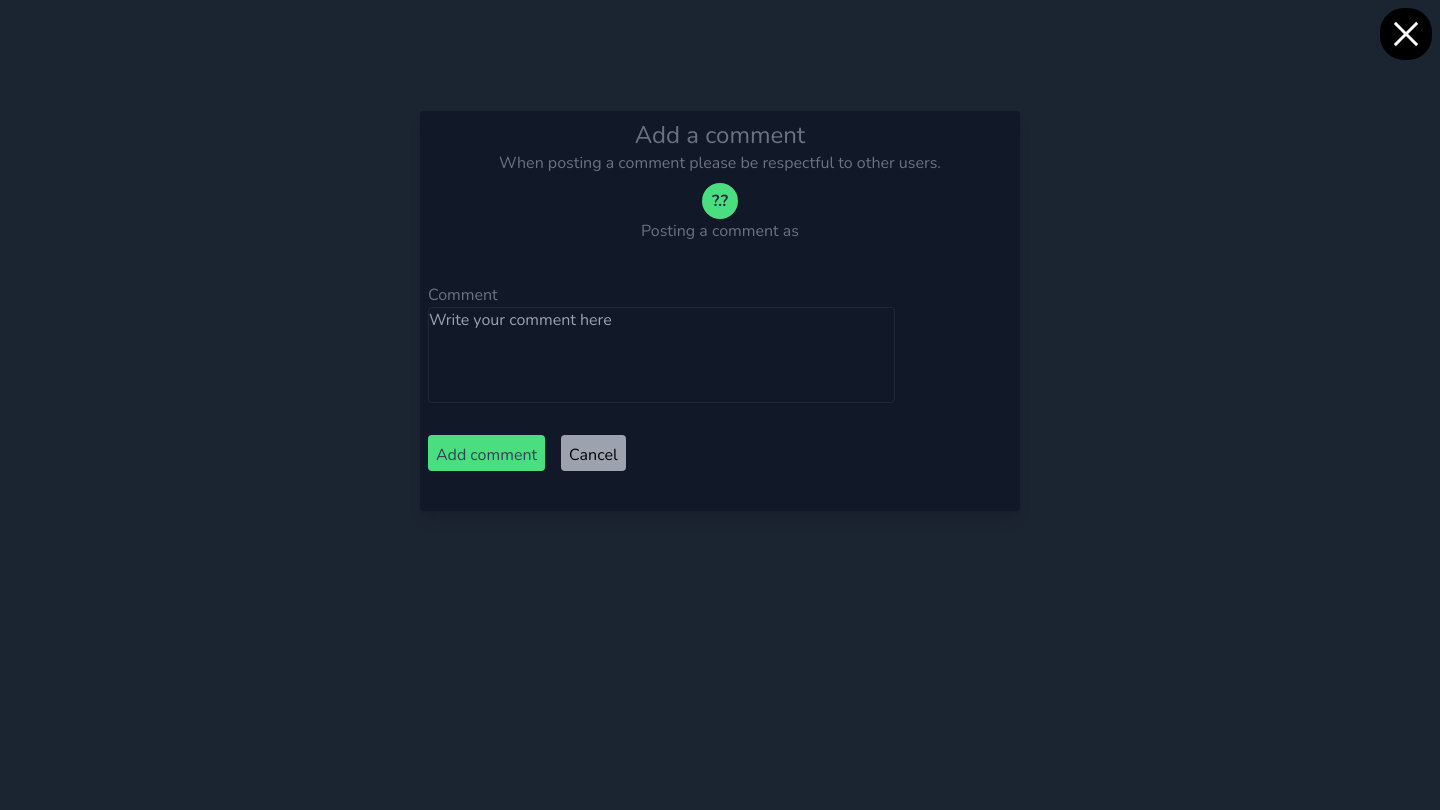
Test: TopicDetailsCommentModalContent › should show validation error for empty content
Clear the text box with placeholder "Write your comment here" at (662, 355), box [428,307,895,403]
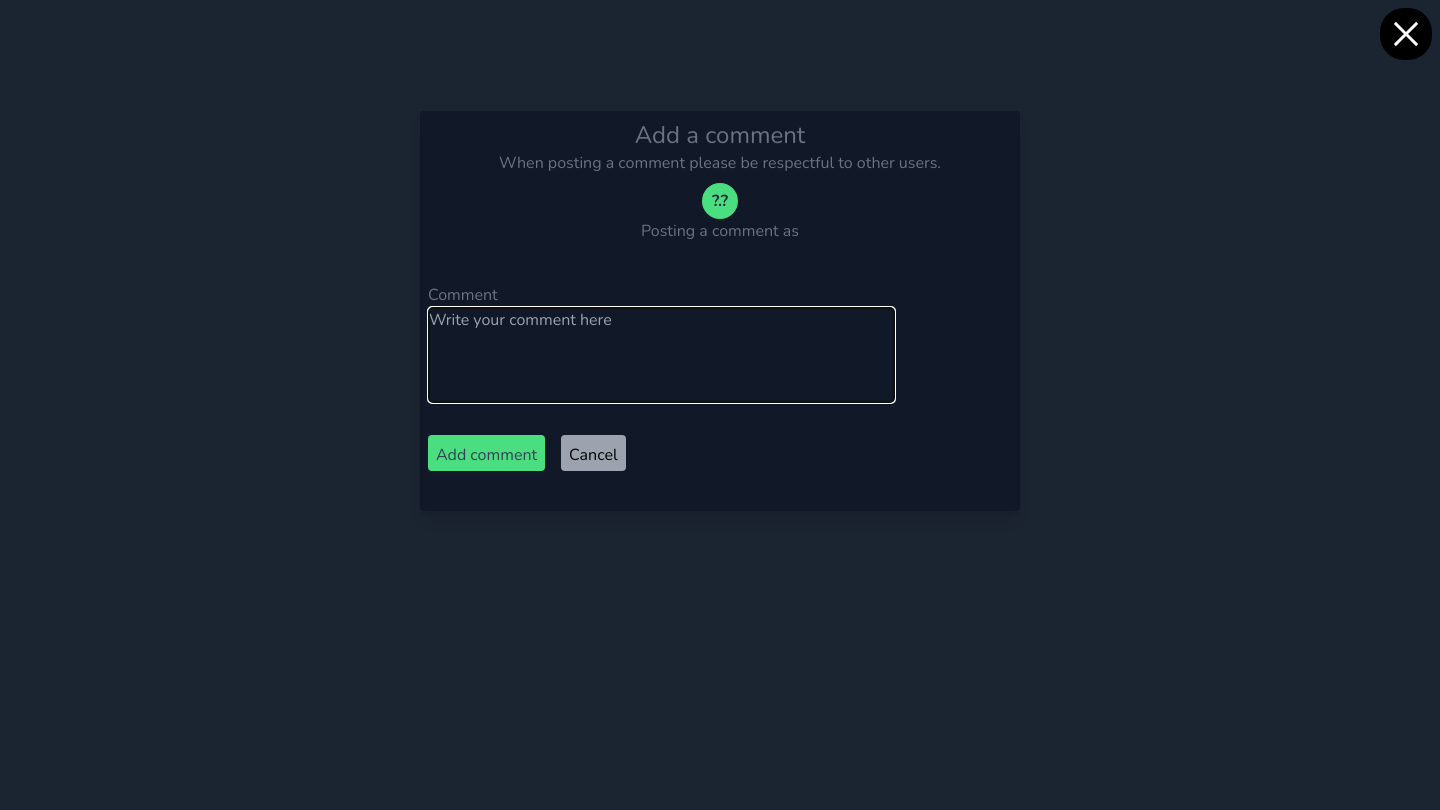
Click the button "Add comment" at (487, 453), box [428,435,545,471]
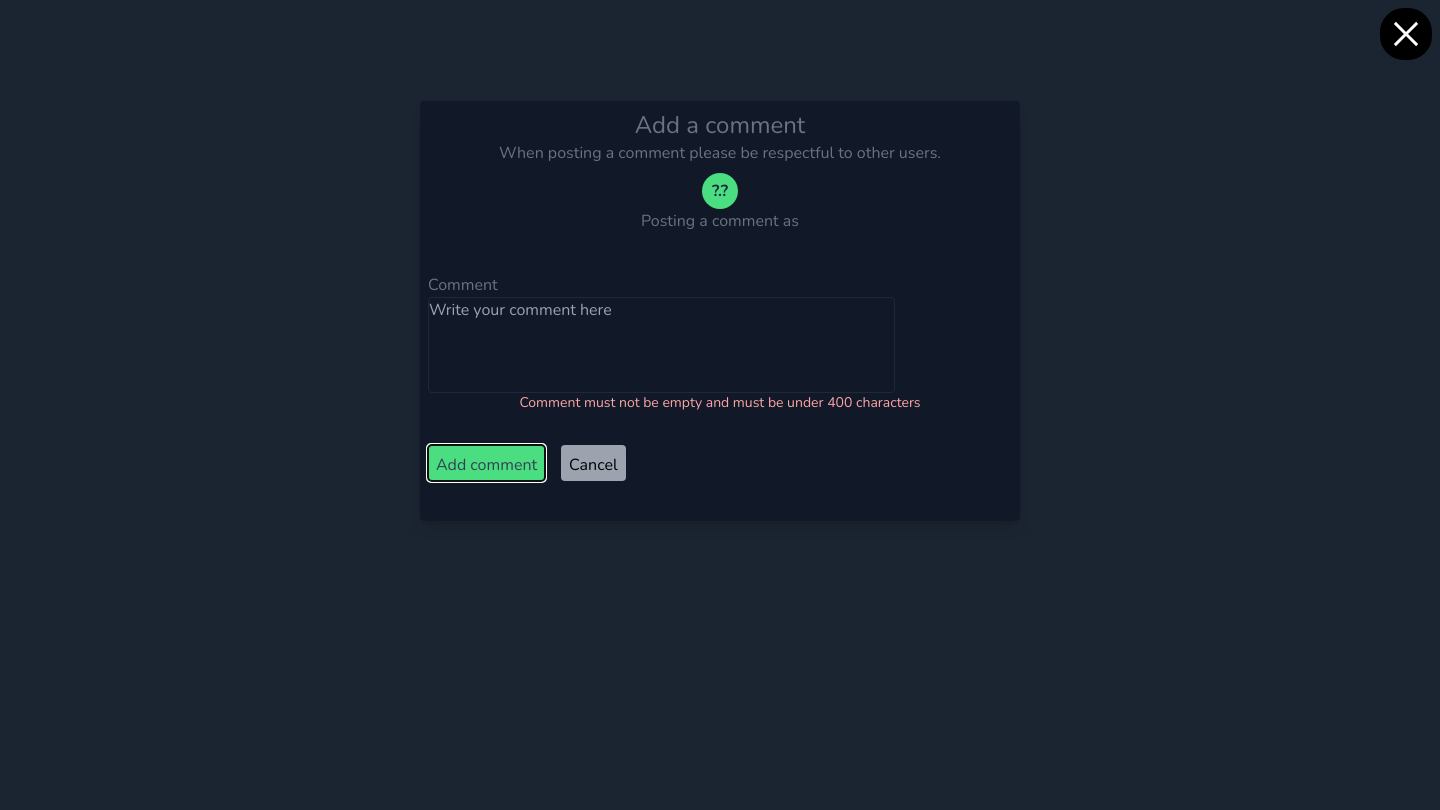
Expected: the text "Comment must not be empty and must be under 400 characters" is shown, [519,393,921,413]
